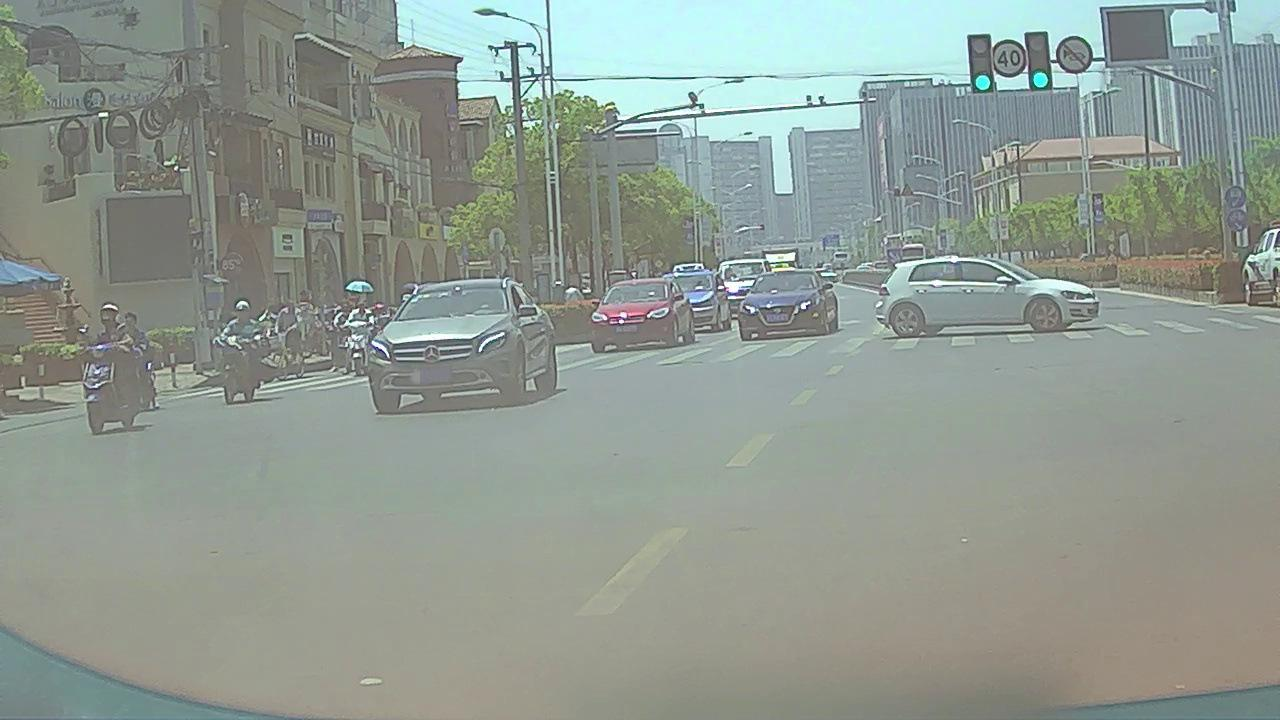traffic_light: (1026, 35, 1053, 92), (972, 36, 993, 91)
